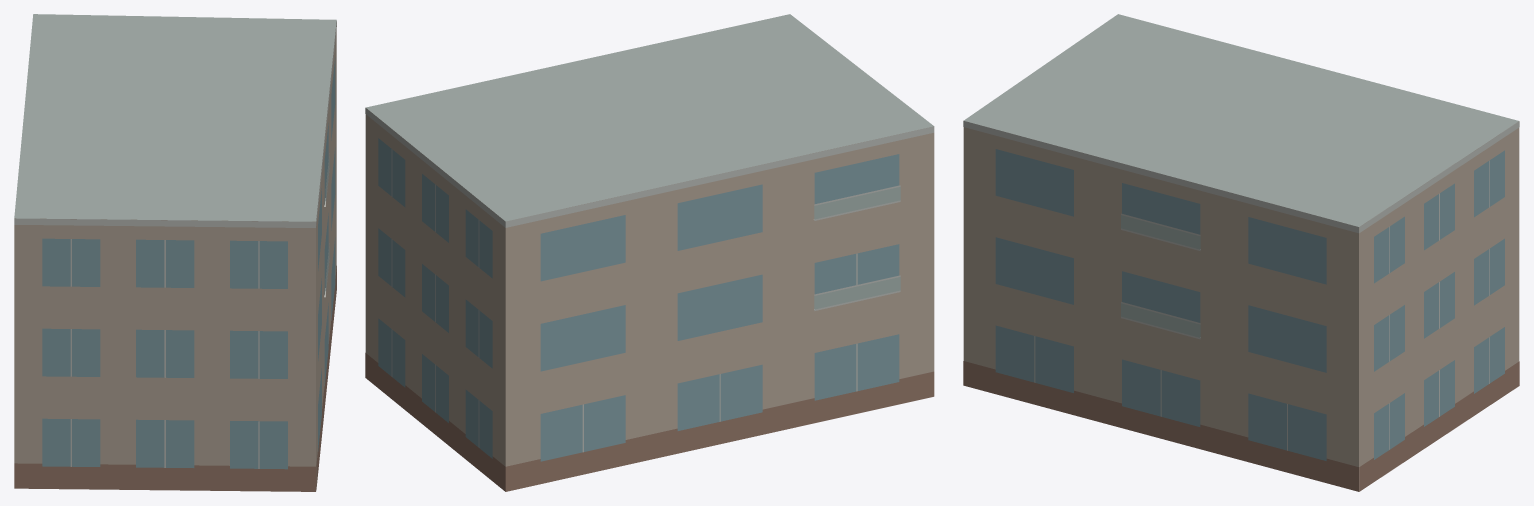
File: survey-upis-32738019.glb
The picture shows the model from 3 angles, left to right: view 1: azimuth 30°, elevation 25°; view 2: azimuth 150°, elevation 25°; view 3: azimuth 270°, elevation 25°; orthographic projection. The views are drawn at different scales.
Visible parts, largest first — view 1: survey-upis-32738019.tmp; view 2: survey-upis-32738019.tmp; view 3: survey-upis-32738019.tmp.
Boxes of the visible parts, <box> form: survey-upis-32738019.tmp: <box>14,14,336,491</box>; survey-upis-32738019.tmp: <box>365,14,934,491</box>; survey-upis-32738019.tmp: <box>963,14,1519,491</box>.
Size of the model in its own units: 17.78 by 10.3 by 19.61.
